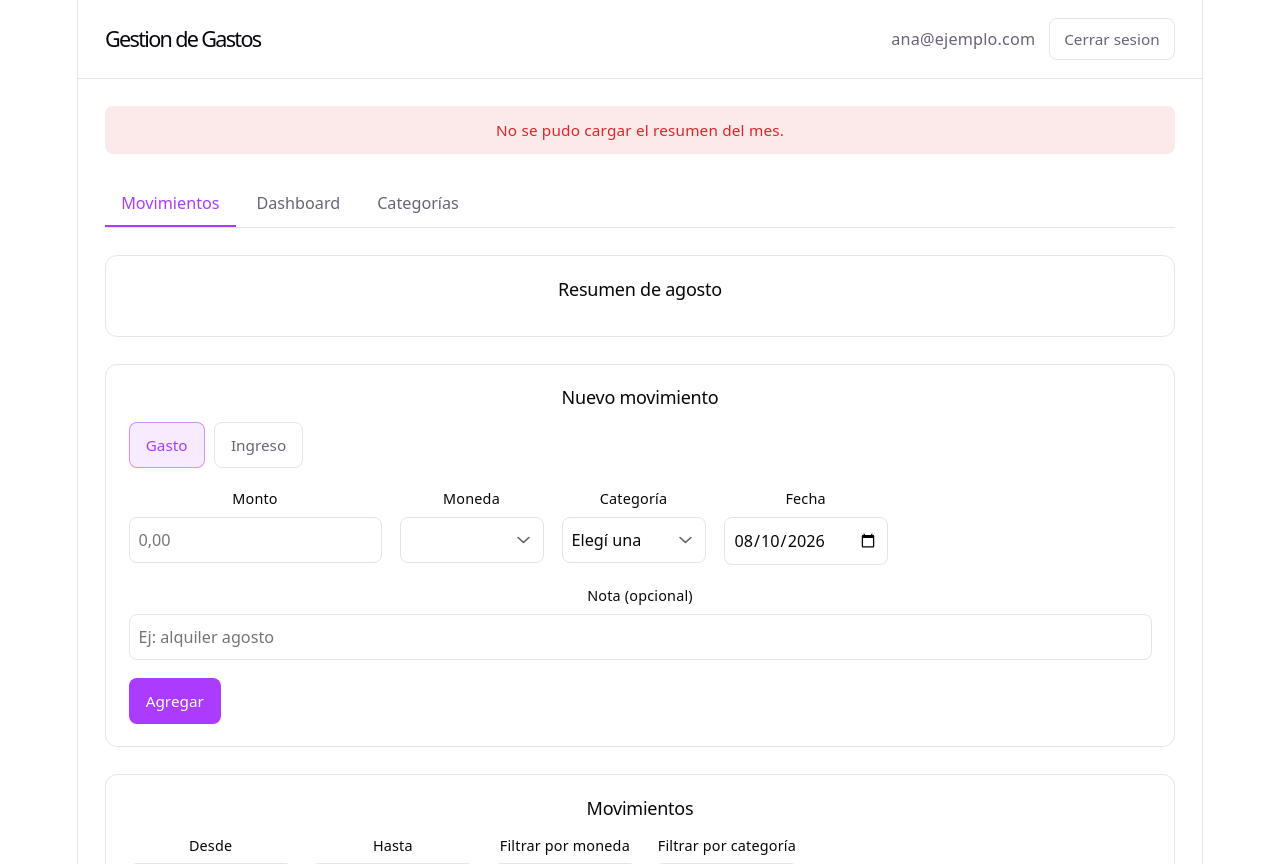
Test: cierre de sesion (RF-05) › AC-09: al cerrar sesion vuelve a la pantalla de login
Click the button "Cerrar sesion": (1112, 39) [1049, 18, 1175, 60]
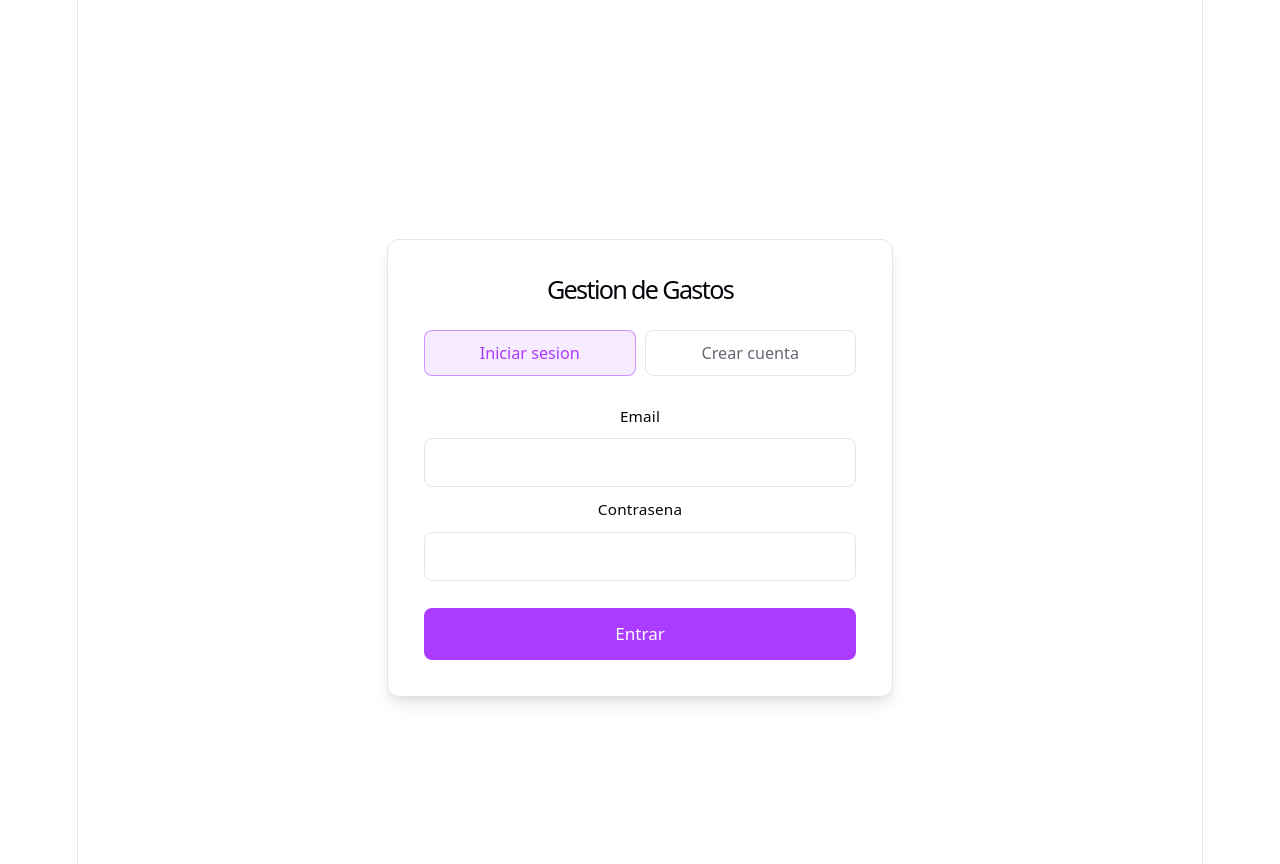
Expected: the button "Entrar" is shown, [424, 608, 856, 660]
Expected: the text "ana@ejemplo.com" is gone
